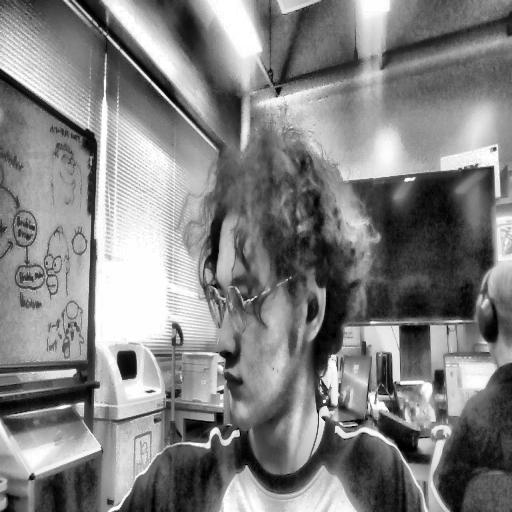Daifuku: (181, 135, 357, 435)
Not Daifuku: (472, 252, 512, 365)
